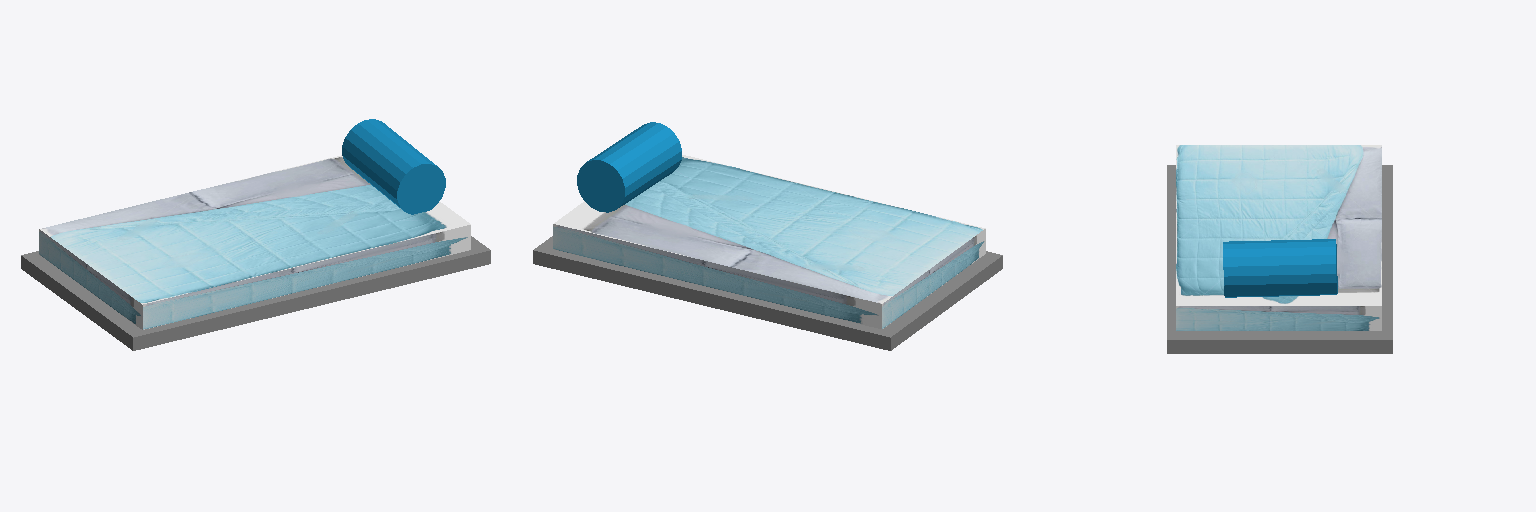
3 renders of one model, left to right at view 1: azimuth 30°, elevation 25°; view 2: azimuth 150°, elevation 25°; view 3: azimuth 270°, elevation 25°, orthographic.
Visible parts, largest first — view 1: Box002, Box001, Cylinder002; view 2: Box002, Box001, Cylinder002; view 3: Box002, Box001, Cylinder002.
Boxes of the visible parts, x1,y1,x2,y2 form: Box002: [39, 155, 470, 329]; Box001: [21, 236, 490, 350]; Cylinder002: [342, 119, 445, 214]; Box002: [553, 155, 985, 328]; Box001: [533, 236, 1002, 350]; Cylinder002: [577, 122, 681, 212]; Box002: [1176, 145, 1381, 330]; Box001: [1167, 165, 1392, 353]; Cylinder002: [1223, 239, 1337, 297].
Size of the model in its own units: 86.61 by 38.02 by 47.24.
4 materials, 2 textured.